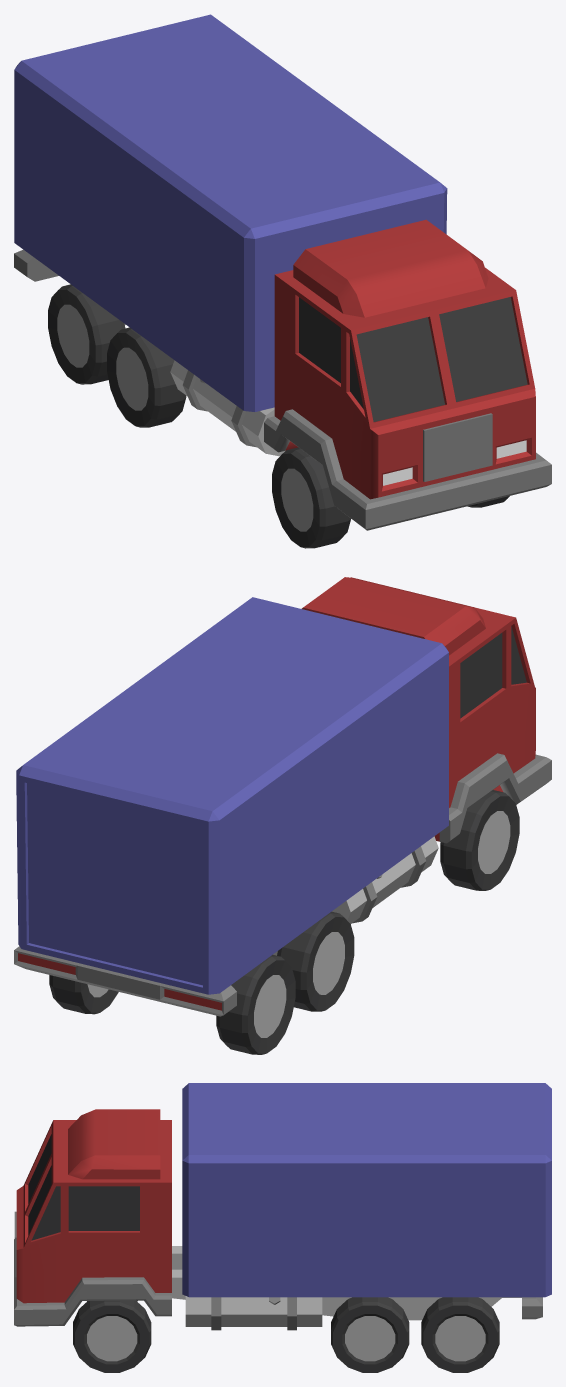
File: Track_01.fbx
3 renders of one model, top to bottom at view 1: azimuth 30°, elevation 25°; view 2: azimuth 150°, elevation 25°; view 3: azimuth 270°, elevation 25°, orthographic. The views are drawn at different scales.
Visible parts, largest first — view 1: Gruzovik_V1; view 2: Gruzovik_V1; view 3: Gruzovik_V1.
Boxes of the visible parts, x1=… form: Gruzovik_V1: x1=14, y1=14, x2=551, y2=548; Gruzovik_V1: x1=14, y1=577, x2=551, y2=1054; Gruzovik_V1: x1=14, y1=1083, x2=551, y2=1372.
Bounding box in the file's own units: 127 × 162 × 362.
